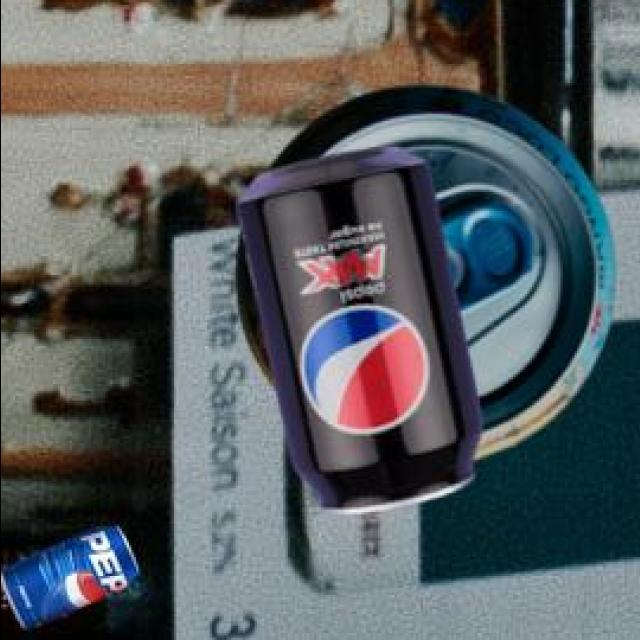logam: (238, 82, 617, 456), (241, 143, 485, 511), (4, 523, 141, 625)
